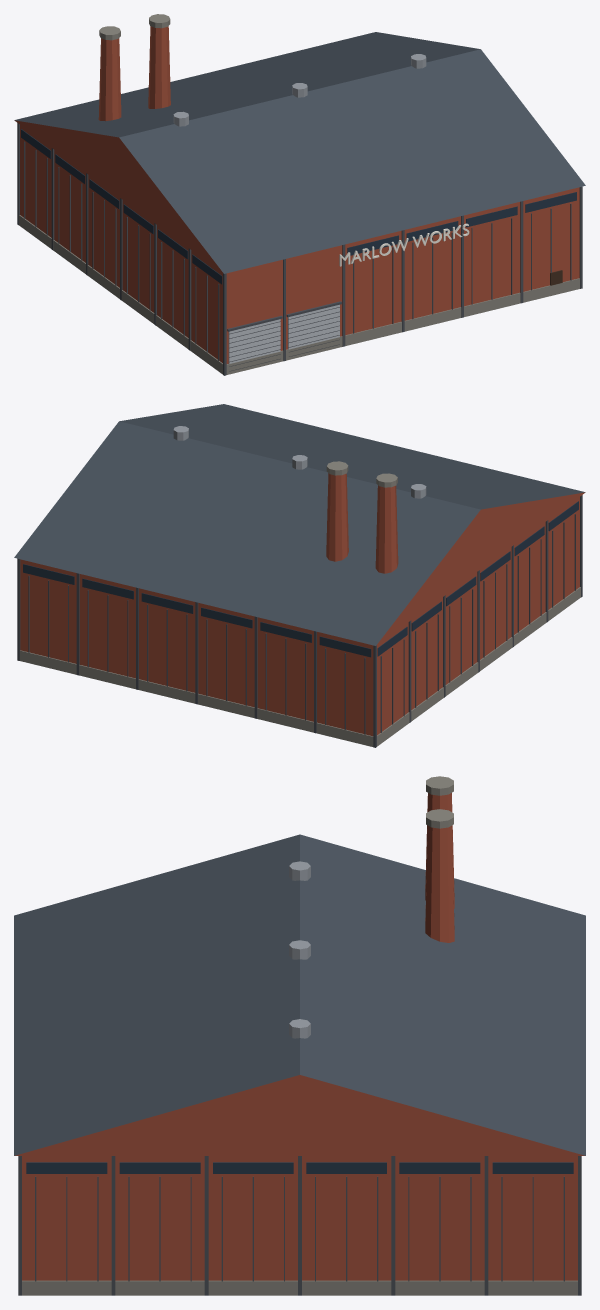
3 views of the same model, one above another, from view 1: azimuth 30°, elevation 25°; view 2: azimuth 150°, elevation 25°; view 3: azimuth 270°, elevation 25° (orthographic). The views are drawn at different scales.
Parts seen in each view (by area): view 1: wh_c; view 2: wh_c; view 3: wh_c.
Part boxes in pixels (x1=…): wh_c: x1=14, y1=14, x2=585, y2=375; wh_c: x1=14, y1=404, x2=585, y2=747; wh_c: x1=14, y1=776, x2=585, y2=1295.
Size of what is drawn, in the model's own units: 36.6 by 21.45 by 36.8.
